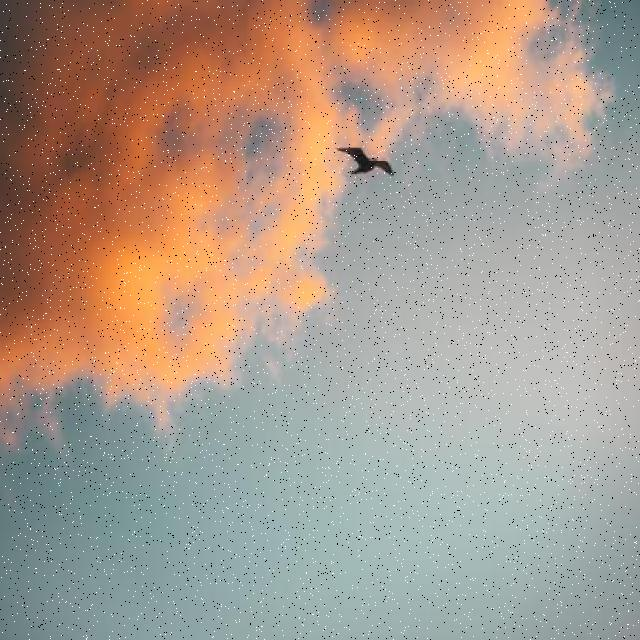bird: (336, 148, 394, 177)
